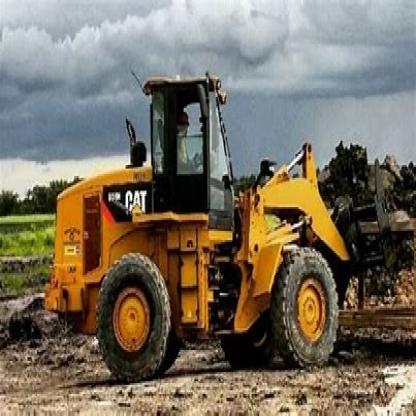bull_dozer/loader/grader: (44, 60, 370, 383)
